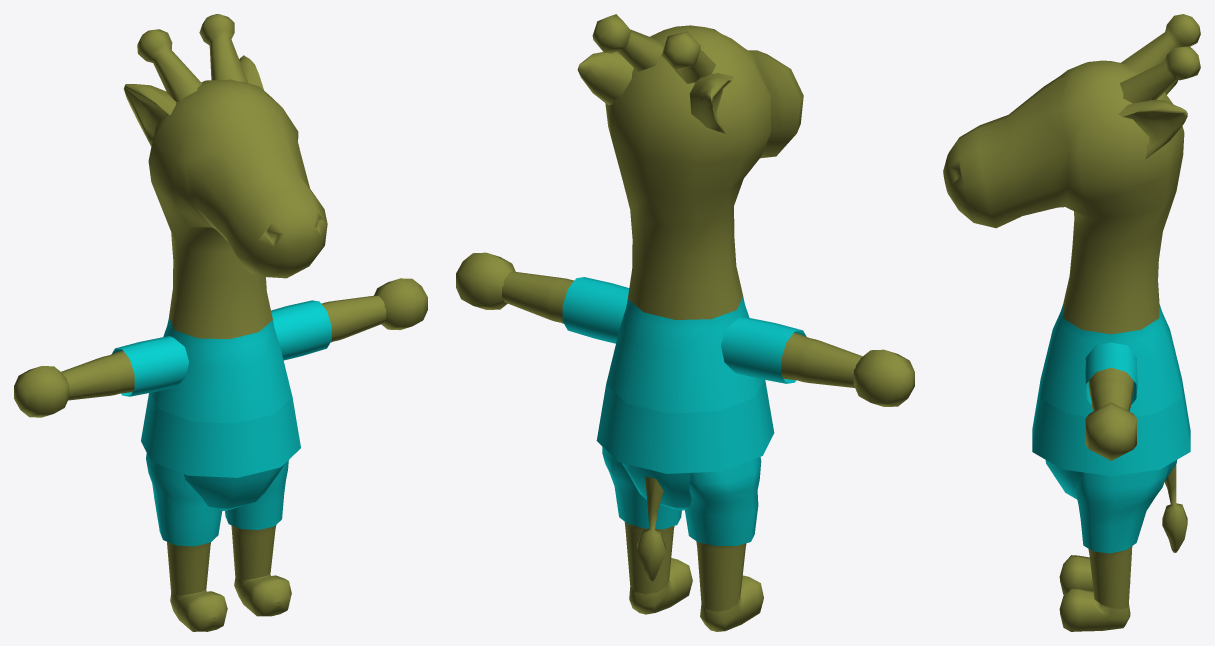
Rendered from Steve.fbx.
3 views of the same model, side by side, from view 1: azimuth 30°, elevation 25°; view 2: azimuth 150°, elevation 25°; view 3: azimuth 270°, elevation 25° (orthographic). The views are drawn at different scales.
Visible parts, largest first — view 1: Steve_Geo; view 2: Steve_Geo; view 3: Steve_Geo.
Part boxes in pixels (box(x1,y1,x2,y2)): Steve_Geo: box(14, 14, 427, 631); Steve_Geo: box(456, 14, 914, 631); Steve_Geo: box(943, 14, 1200, 631).
Size of the model in its own units: 7.05 by 9.25 by 3.73.
